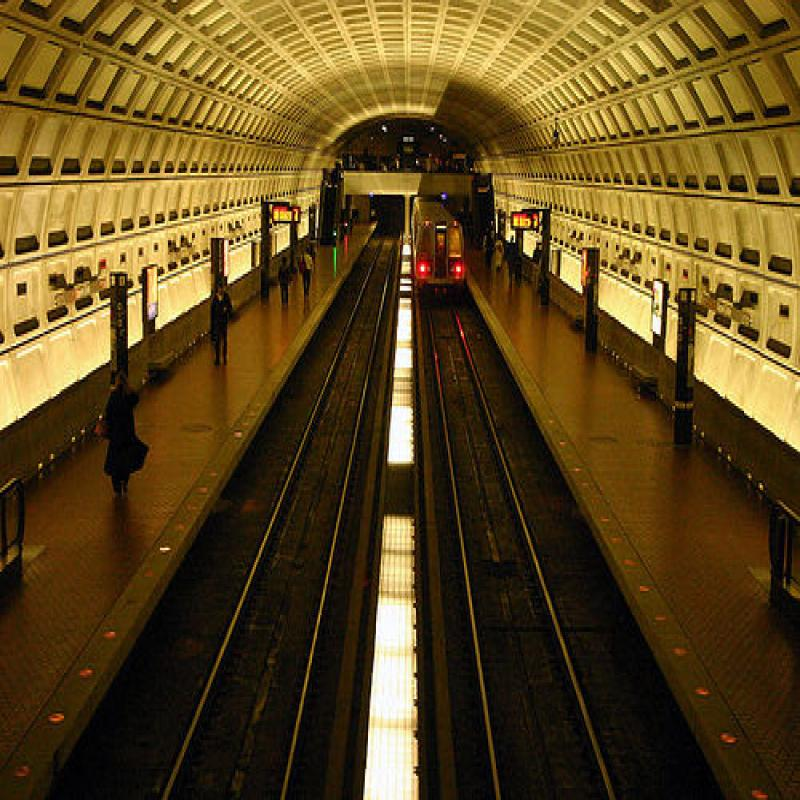train: (409, 198, 471, 316)
